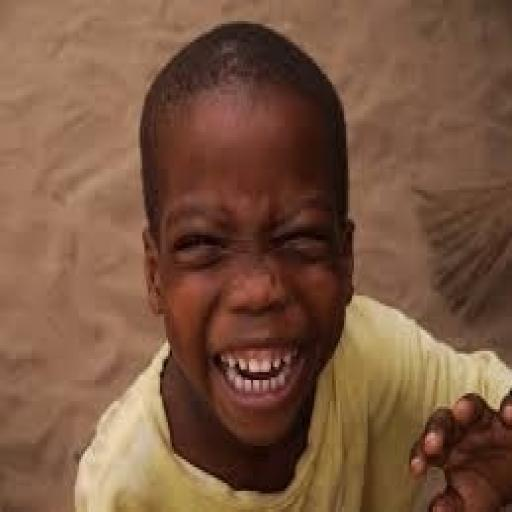laughing: (59, 14, 510, 510)
